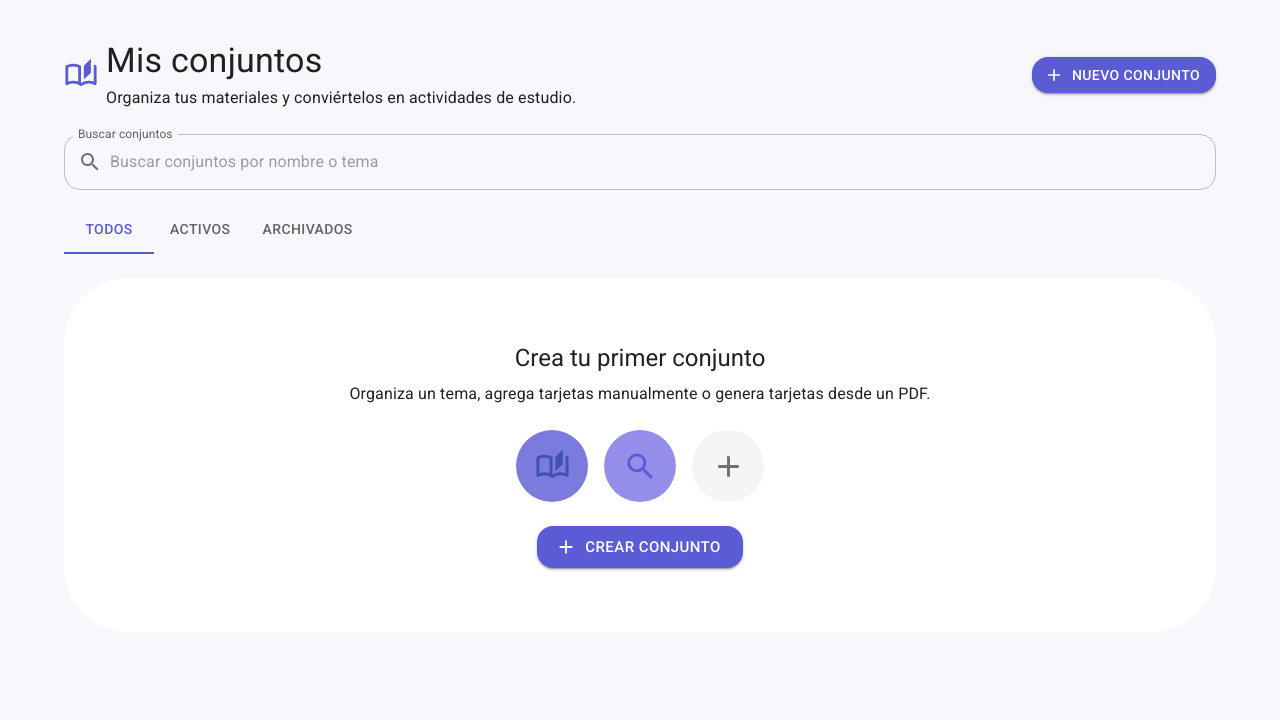
Scenario: DecksPage › opens the creation form
Expected: the heading "Crea tu primer conjunto" is shown, [515, 344, 765, 372]
Click the button "Crear conjunto" at (640, 547), box [537, 526, 743, 568]
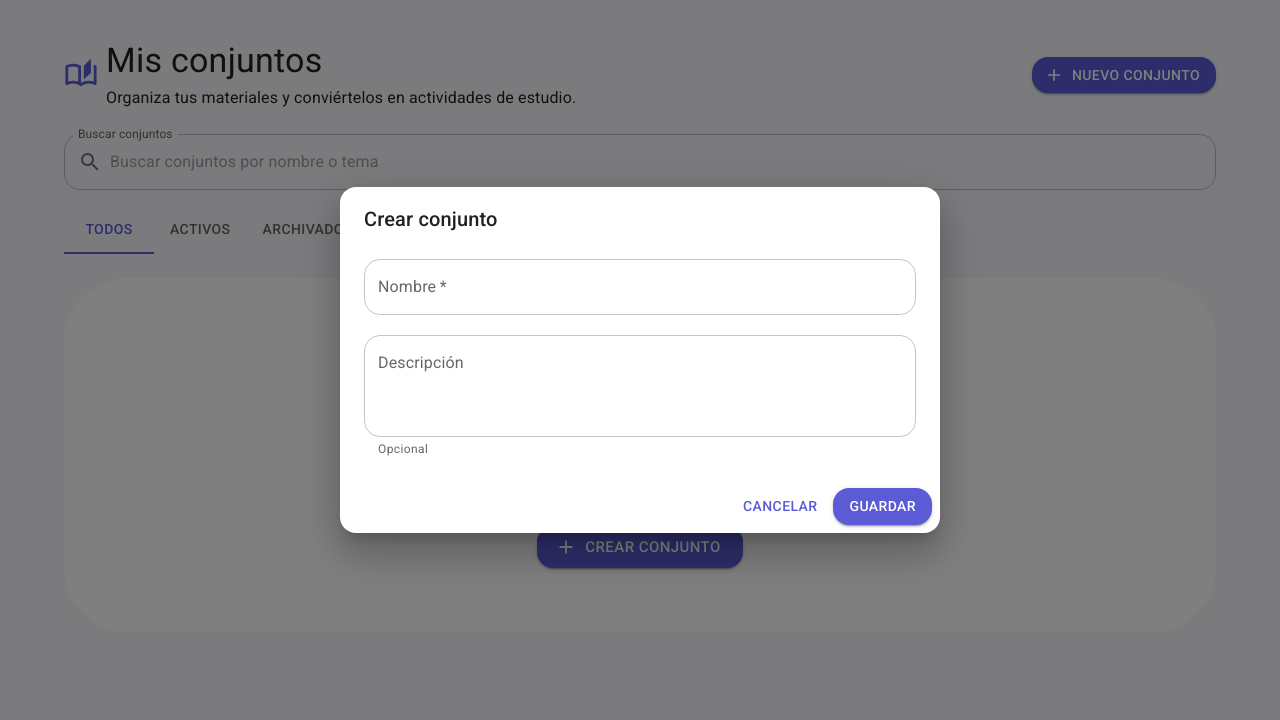
Expected: the dialog "Crear conjunto" is shown, [340, 187, 940, 533]
Expected: the field labelled "Nombre *" is shown, [364, 259, 916, 315]
